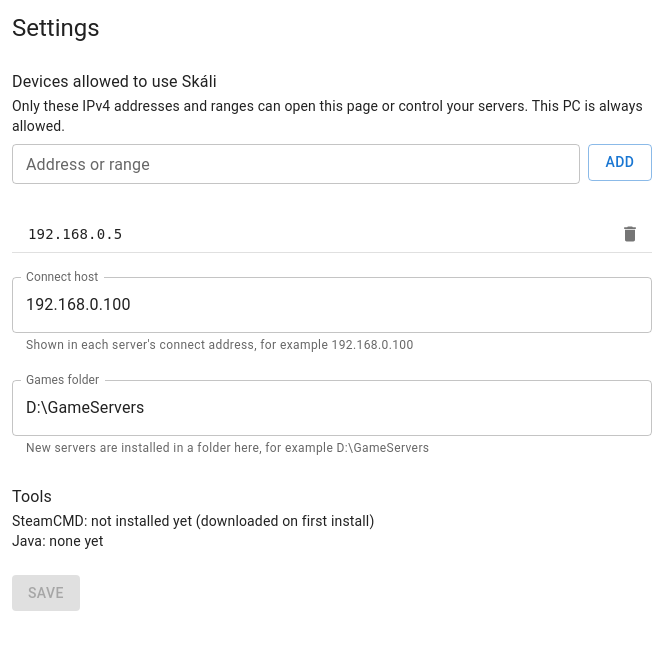
SettingsPage › shows the lockout refusal verbatim
This screenshot has width=669, height=666.
Step 1. Click the button named "Remove 192.168.0.5" → point(630, 234), box [612,216,648,252]
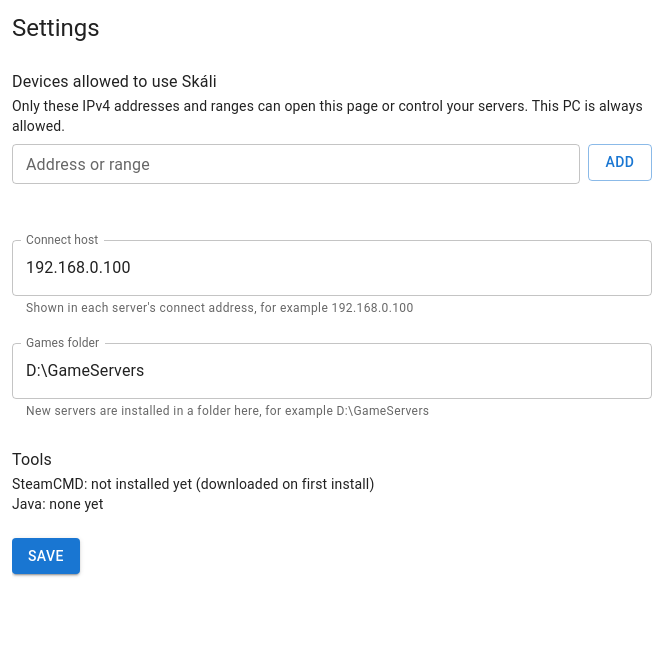
Step 2. Click the button "Save" → point(46, 556), box [12,538,80,574]
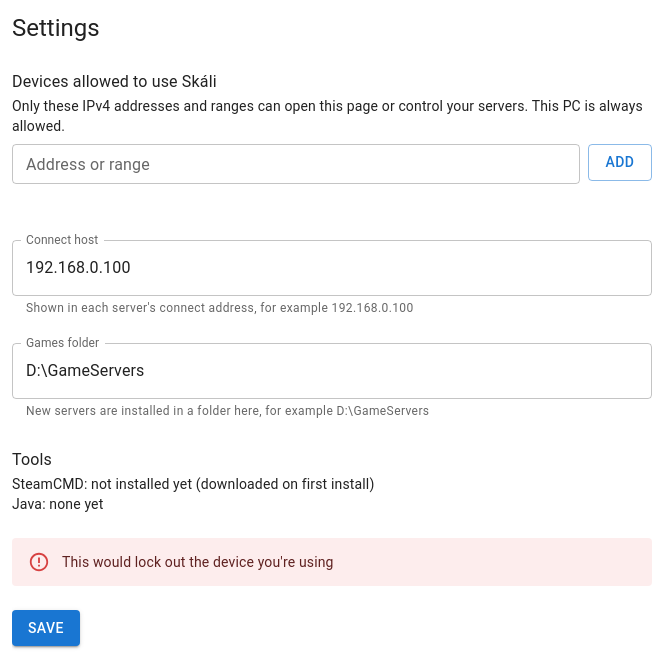
Result: the text "This would lock out the device you're using" is shown at [62,554,334,570]
